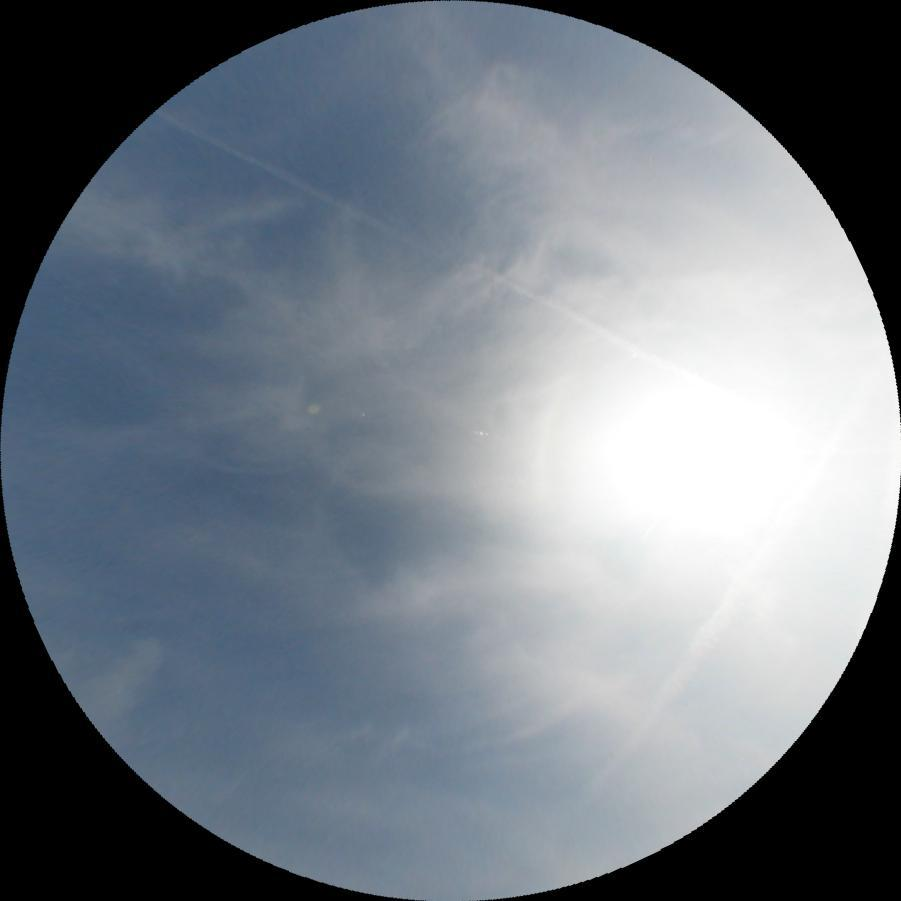contrail old: (152, 105, 721, 392)
contrail veryold: (570, 533, 787, 822)
sun: (589, 343, 835, 547)
